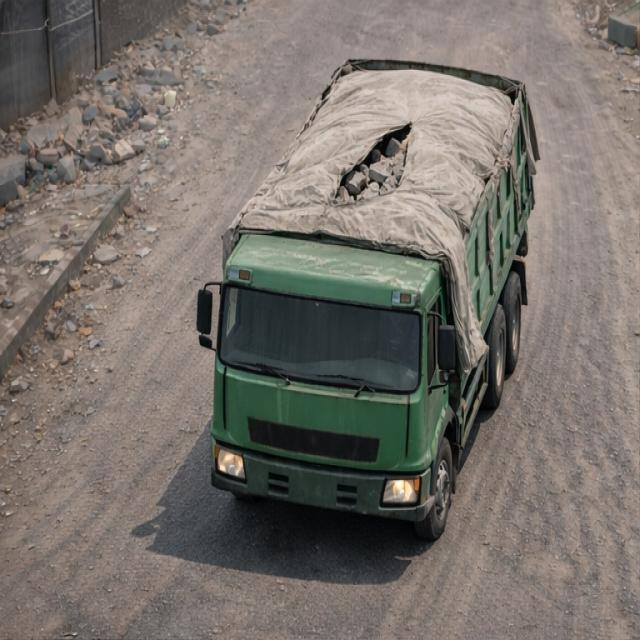Box: (228, 55, 523, 252)
Truck: (194, 32, 547, 532)
